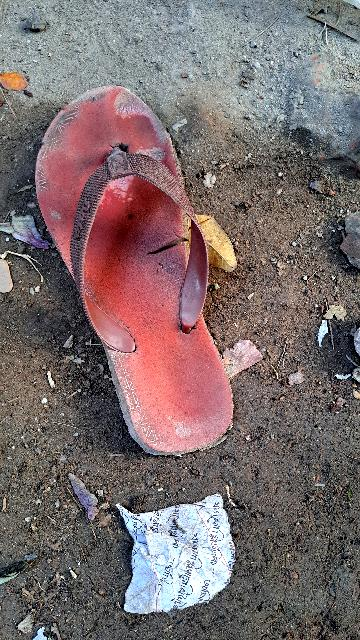sandal: (6, 61, 248, 483)
